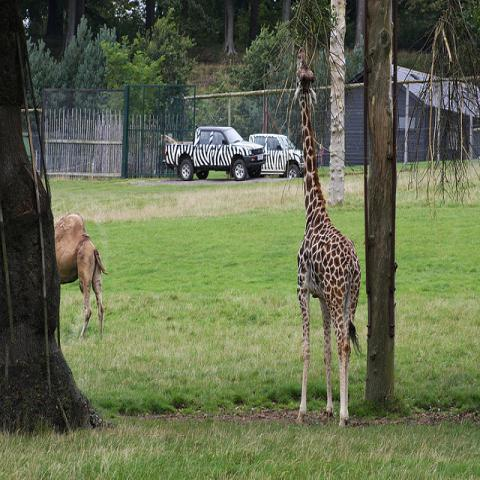truck: (164, 126, 266, 182), (248, 133, 304, 178)
